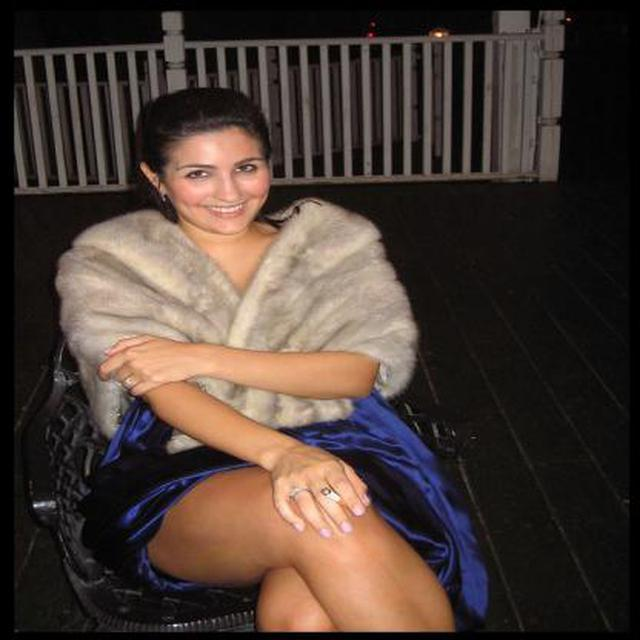smoking: (322, 488, 356, 509)
